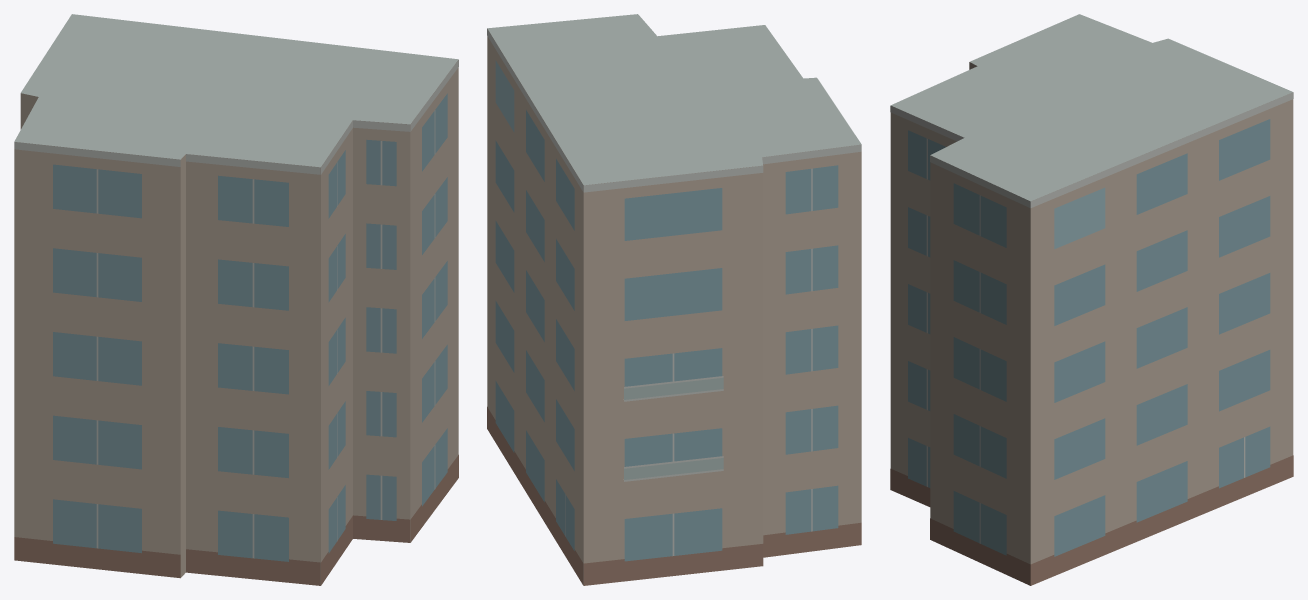
File: survey-upis-32883243.glb
3 views of the same model, side by side, from view 1: azimuth 30°, elevation 25°; view 2: azimuth 150°, elevation 25°; view 3: azimuth 270°, elevation 25° (orthographic). The views are drawn at different scales.
Visible parts, largest first — view 1: survey-upis-32883243.tmp; view 2: survey-upis-32883243.tmp; view 3: survey-upis-32883243.tmp.
Boxes of the visible parts, <box> form: survey-upis-32883243.tmp: <box>14,14,458,585</box>; survey-upis-32883243.tmp: <box>487,14,861,585</box>; survey-upis-32883243.tmp: <box>890,14,1293,585</box>.
Size of the model in its own units: 14.17 by 13.55 by 12.88.
